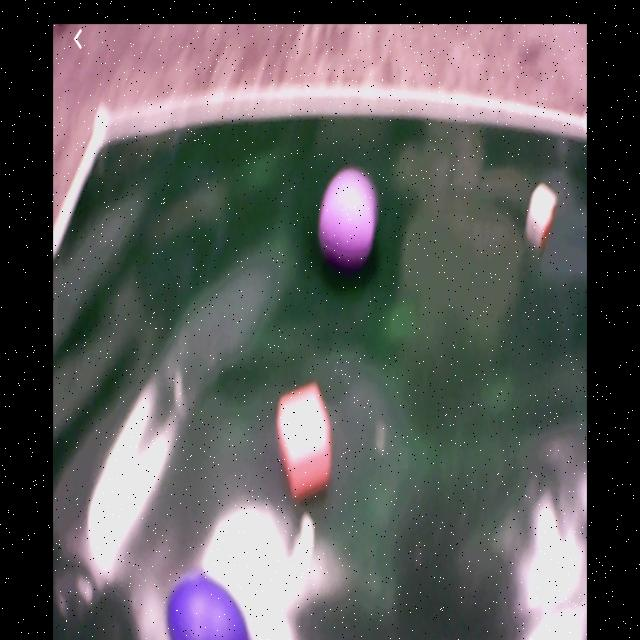ball: (168, 576, 252, 640), (321, 171, 378, 263)
